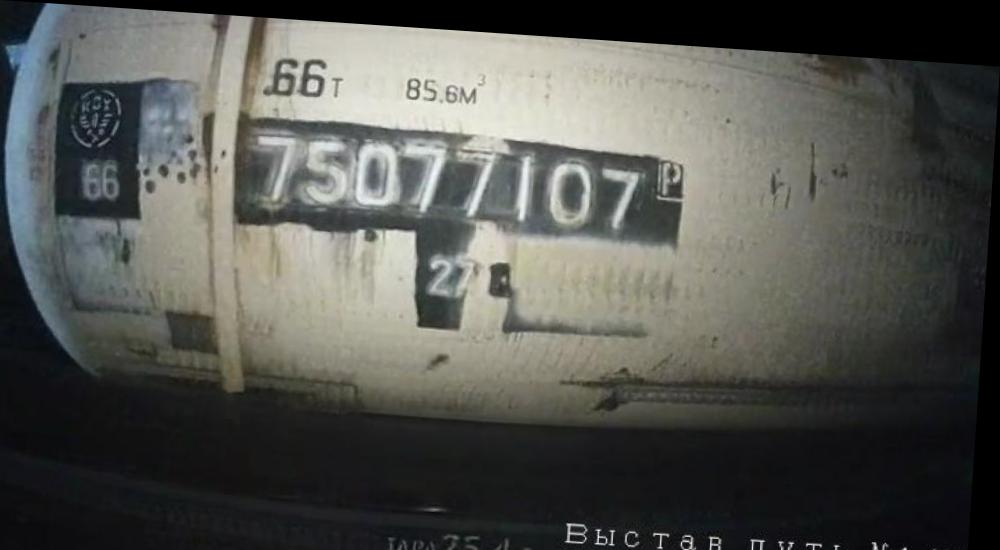Wagon-number: (247, 123, 651, 230)
